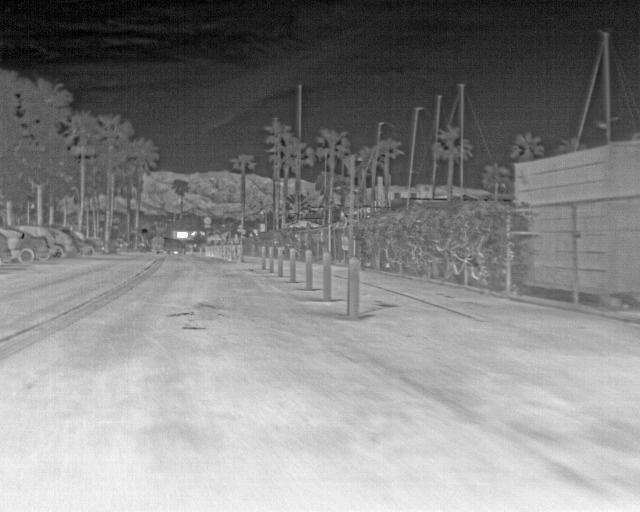car: (0, 227, 51, 264), (13, 223, 56, 252), (48, 226, 77, 255), (163, 238, 190, 254)
